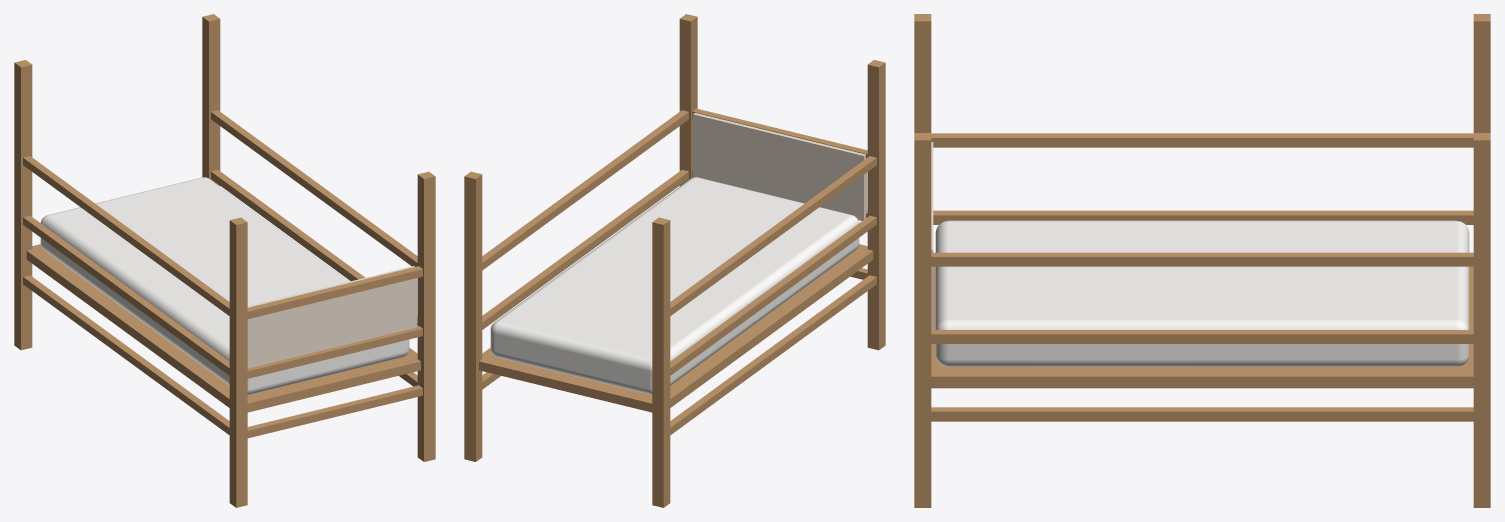
File: cot.glb
The picture shows the model from 3 angles, left to right: view 1: azimuth 30°, elevation 25°; view 2: azimuth 150°, elevation 25°; view 3: azimuth 270°, elevation 25°; orthographic projection. The views are drawn at different scales.
Parts seen in each view (by area): view 1: material-0-frame, material-1-upholstery, material-2-fabric; view 2: material-0-frame, material-1-upholstery, material-2-fabric; view 3: material-0-frame, material-1-upholstery.
Boxes of the visible parts, bbox=[...] form: material-0-frame: bbox=[14, 14, 435, 507]; material-1-upholstery: bbox=[40, 177, 409, 394]; material-2-fabric: bbox=[247, 266, 417, 368]; material-0-frame: bbox=[464, 14, 885, 507]; material-1-upholstery: bbox=[490, 177, 859, 394]; material-2-fabric: bbox=[693, 113, 867, 220]; material-0-frame: bbox=[914, 14, 1490, 507]; material-1-upholstery: bbox=[935, 220, 1469, 366].
Size of the model in its own units: 0.7 by 0.95 by 1.35.
